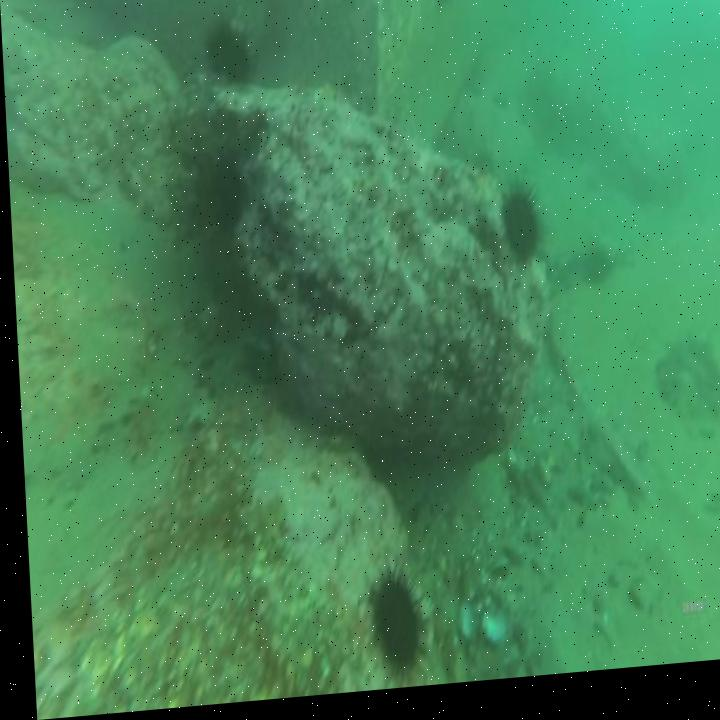echinus: (357, 555, 429, 697), (492, 178, 549, 286), (198, 16, 264, 100), (202, 155, 242, 235)
